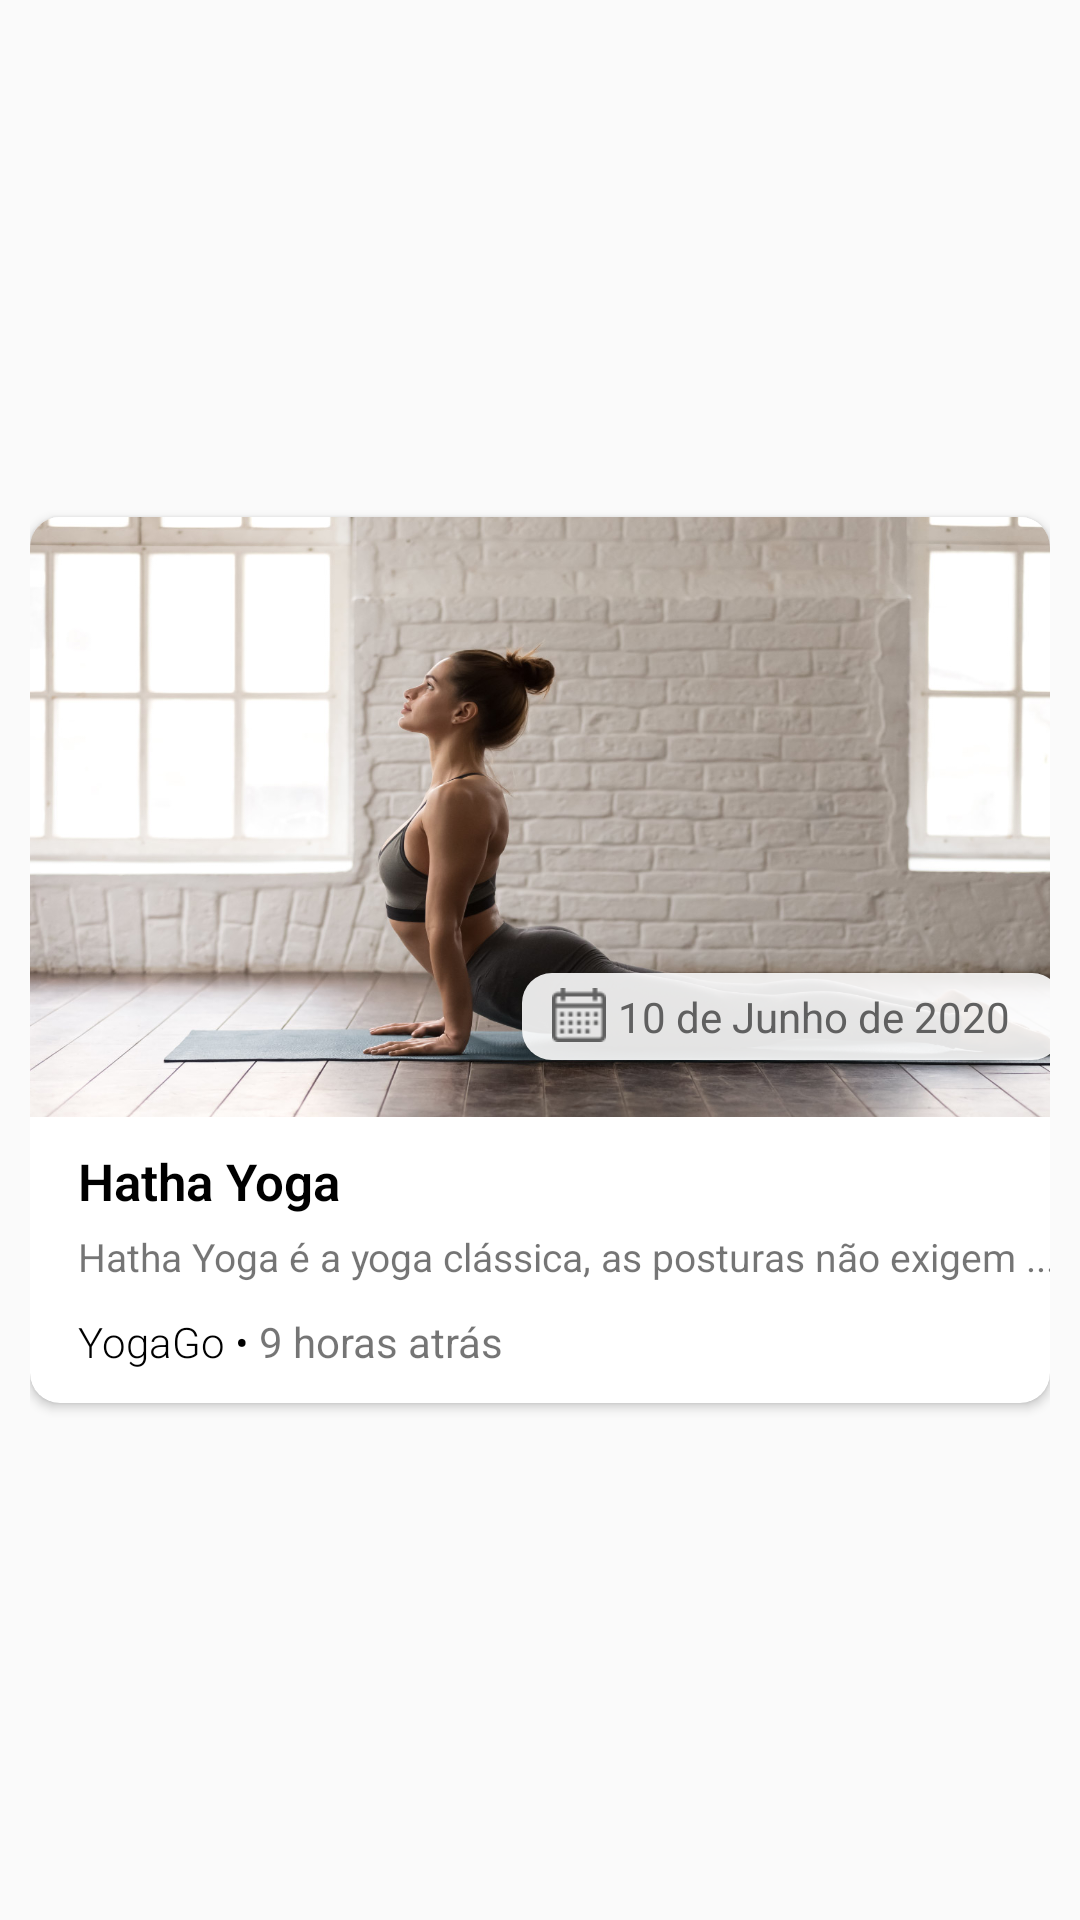

Named icons in this screenshot (1080×1920) and their centers, point (x, y):
calendar: point (579, 1015)
